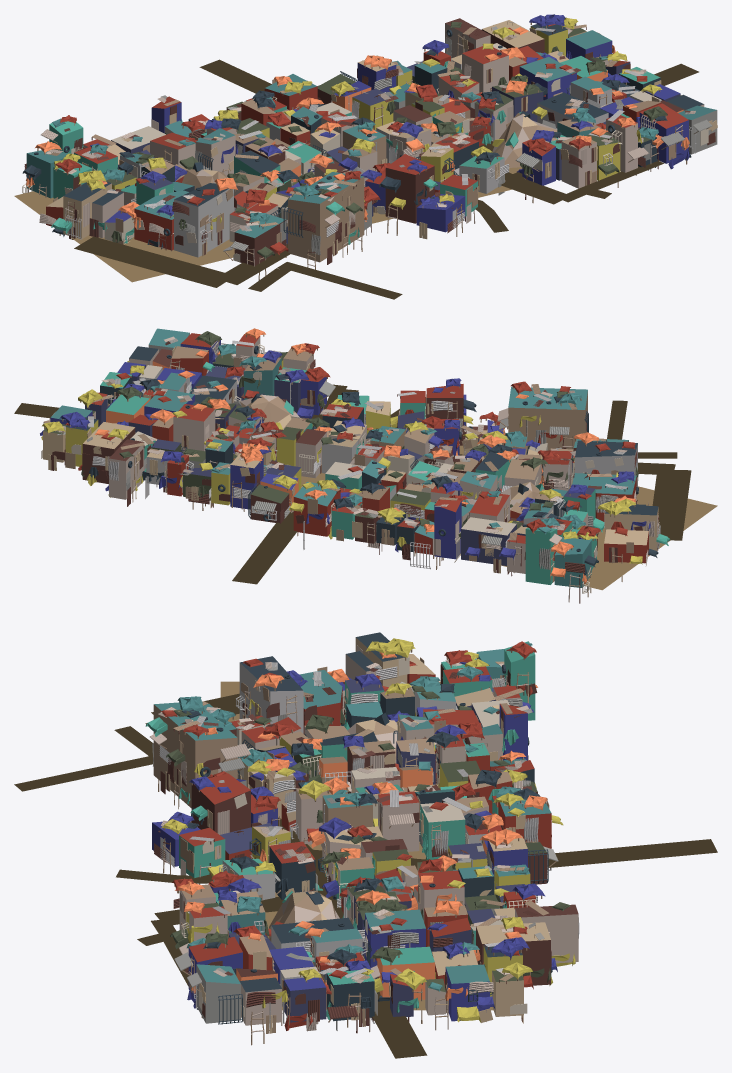
File: TD_Env2.fbx
3 views of the same model, one above another, from view 1: azimuth 30°, elevation 25°; view 2: azimuth 150°, elevation 25°; view 3: azimuth 270°, elevation 25° (orthographic). The views are drawn at different scales.
Visible parts, largest first — view 1: Env_TD_02; view 2: Env_TD_02; view 3: Env_TD_02.
Boxes of the visible parts, left/top/right/bottom form: Env_TD_02: left=14, top=14, right=717, bottom=299; Env_TD_02: left=14, top=328, right=717, bottom=603; Env_TD_02: left=14, top=632, right=717, bottom=1058.
Size of the model in its own units: 9450 by 1229 by 7241.
Materials: 3 (1 with a texture image).
